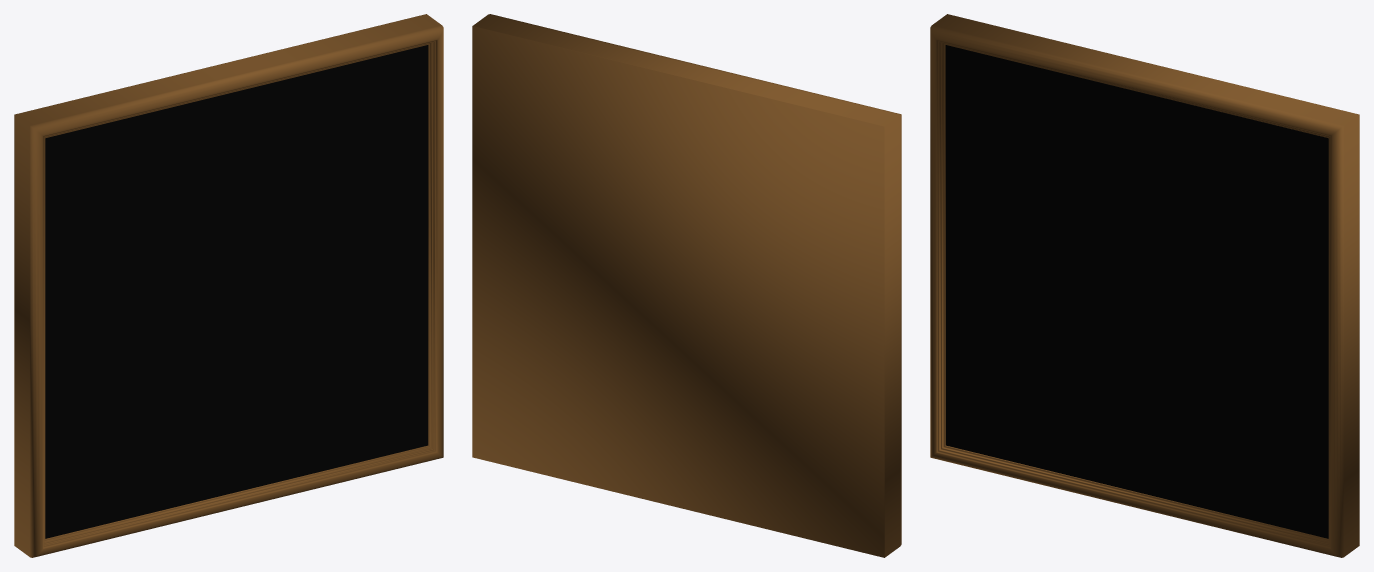
The model's file is pictureframebevel.glb.
3 views of the same model, side by side, from view 1: azimuth 30°, elevation 25°; view 2: azimuth 150°, elevation 25°; view 3: azimuth 330°, elevation 25° (orthographic).
Parts seen in each view (by area): view 1: Image, Frame; view 2: Frame; view 3: Image, Frame.
Boxes of the visible parts, x1,y1,x2,y2 form: Image: (45, 45, 428, 538); Frame: (14, 14, 443, 557); Frame: (472, 14, 901, 557); Image: (945, 45, 1328, 538); Frame: (930, 14, 1359, 557).
Bounding box in the file's own units: 2 × 2 × 0.1673.
2 materials, 1 textured.
